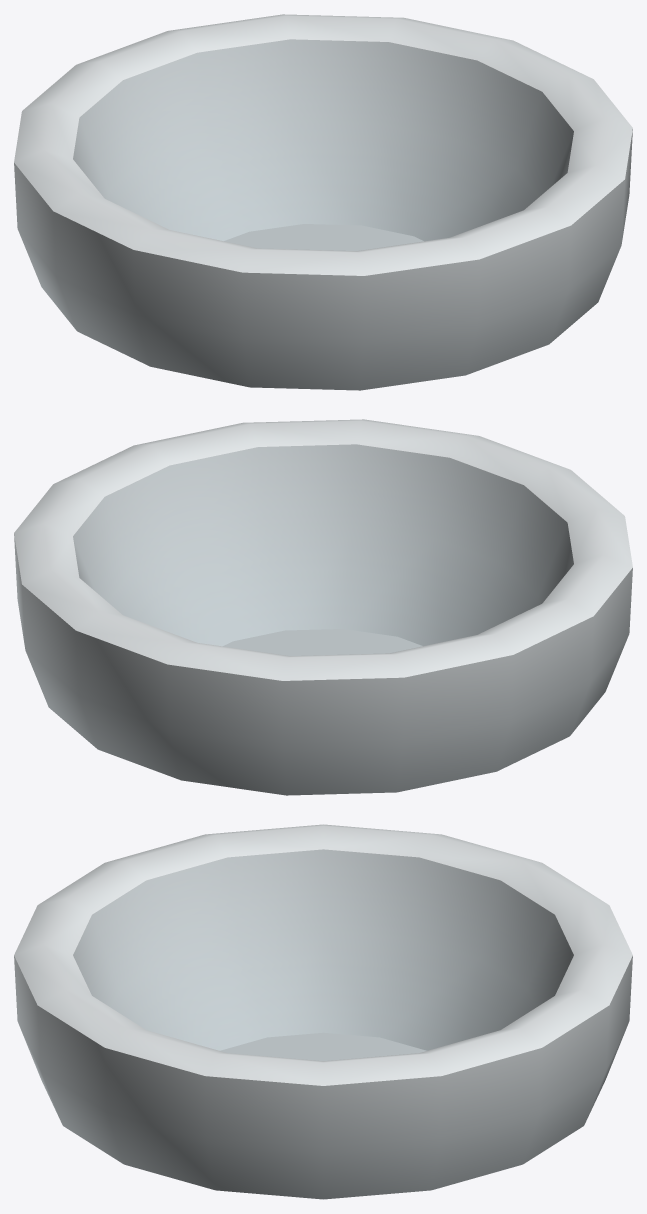
Rendered from Bowl.glb.
The picture shows the model from 3 angles, top to bottom: view 1: azimuth 30°, elevation 25°; view 2: azimuth 150°, elevation 25°; view 3: azimuth 270°, elevation 25°; orthographic projection.
Parts seen in each view (by area): view 1: bowl; view 2: bowl; view 3: bowl.
Boxes of the visible parts, bbox=[...] form: bowl: bbox=[14, 14, 632, 390]; bowl: bbox=[14, 419, 632, 795]; bowl: bbox=[14, 824, 632, 1199].
Size of the model in its own units: 0.95 by 0.3 by 0.95.
Materials: 1 (1 with a texture image).
